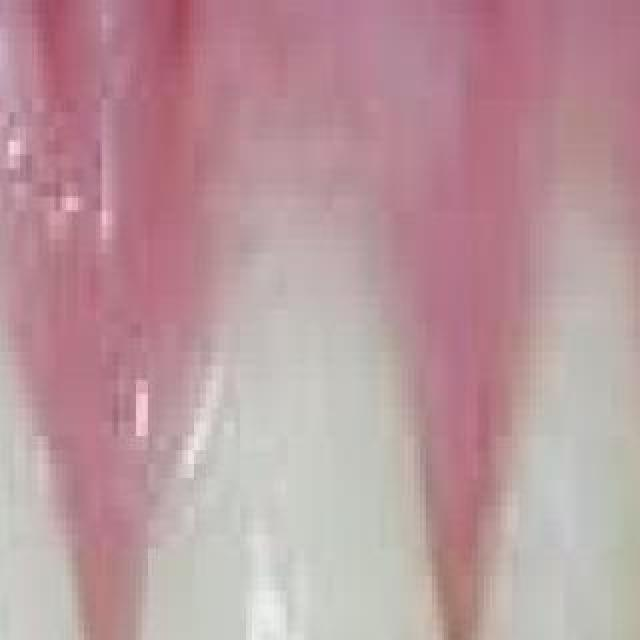plaque: (150, 220, 466, 596), (492, 203, 640, 561), (0, 262, 122, 636)
